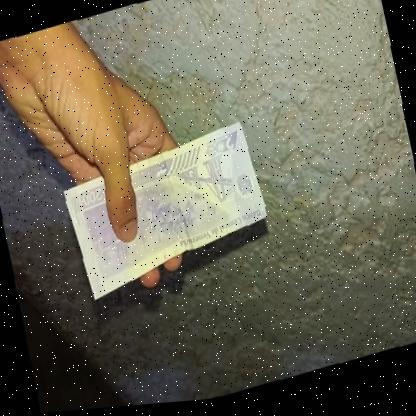two_hundred-back-vef: (58, 120, 276, 306)
